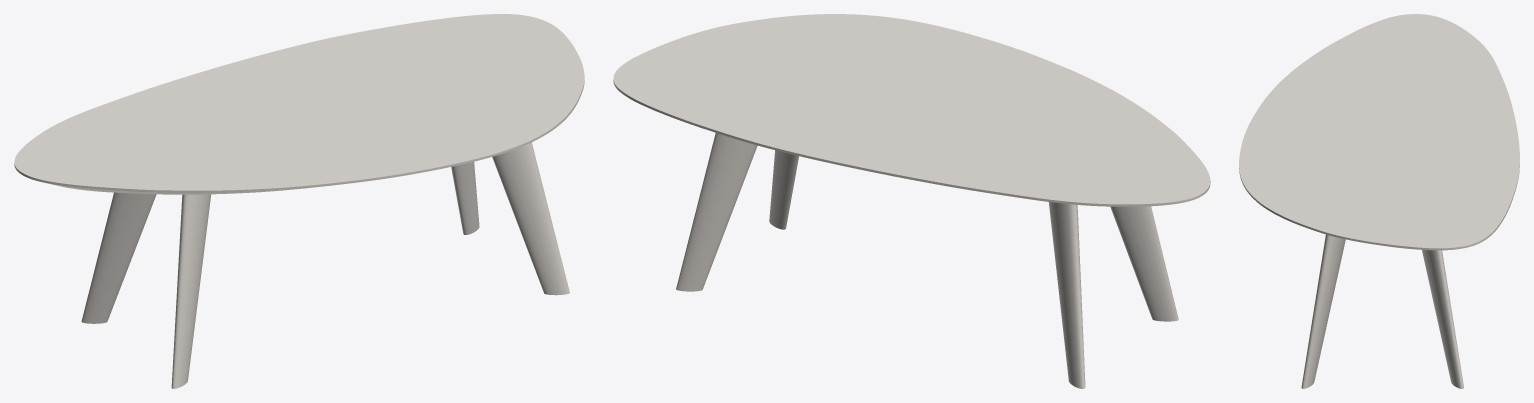
The model's file is pearlwhite_pebbletop_facet_ferdinantwalnut.glb.
The picture shows the model from 3 angles, left to right: view 1: azimuth 30°, elevation 25°; view 2: azimuth 150°, elevation 25°; view 3: azimuth 270°, elevation 25°; orthographic projection. The views are drawn at different scales.
Visible parts, largest first — view 1: facet_pebbletop, ferdinandwalnut; view 2: facet_pebbletop, ferdinandwalnut; view 3: facet_pebbletop, ferdinandwalnut.
Boxes of the visible parts, x1,y1,x2,y2 form: facet_pebbletop: (14,14,584,194); ferdinandwalnut: (81,142,569,388); facet_pebbletop: (613,14,1210,206); ferdinandwalnut: (676,133,1178,388); facet_pebbletop: (1239,14,1519,250); ferdinandwalnut: (1301,234,1463,388).
Bounding box in the file's own units: 7.5 × 2.51 × 3.8.
Materials: 1 (1 with a texture image).
